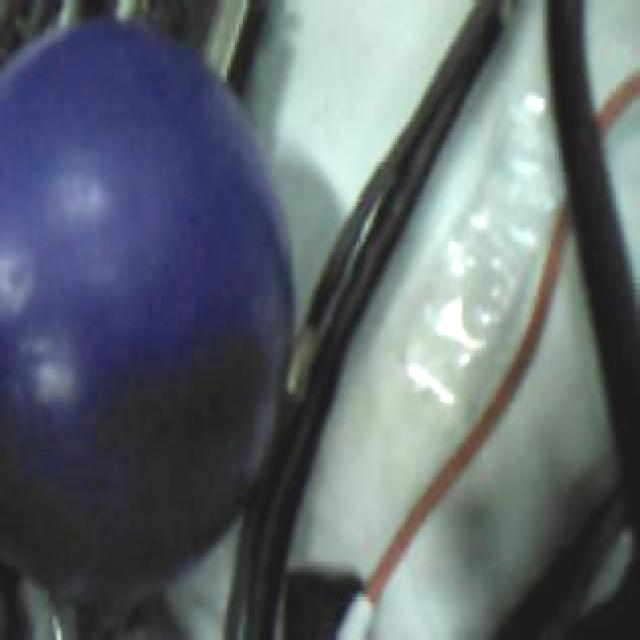BallPurple: (0, 19, 294, 594)
